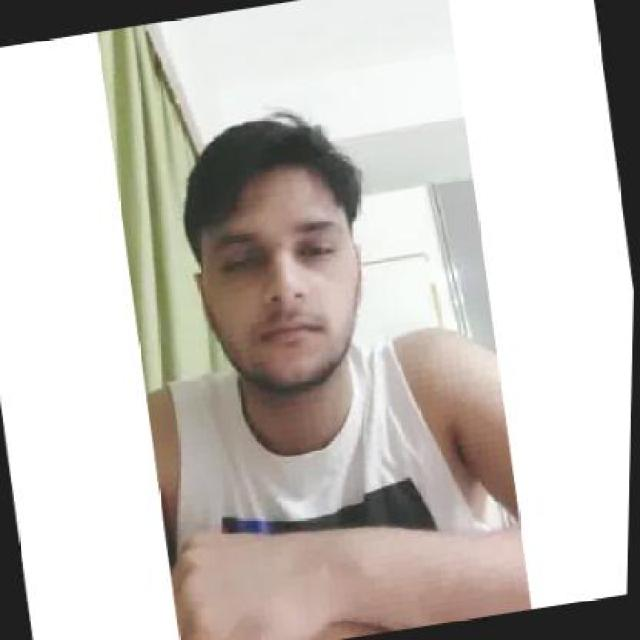inattentif: (165, 99, 381, 404)
